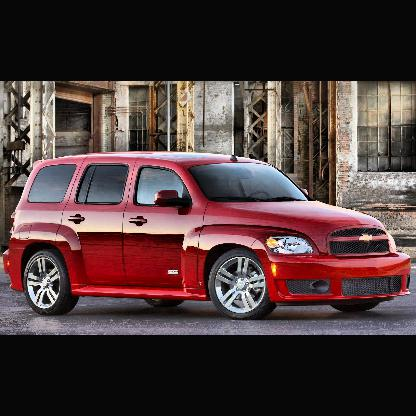Chevrolet HHR SS 2010: (4, 153, 411, 322)
